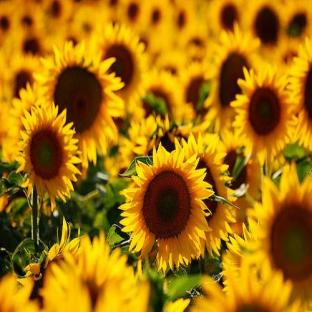sunflower: (118, 138, 215, 273), (16, 104, 82, 245)
